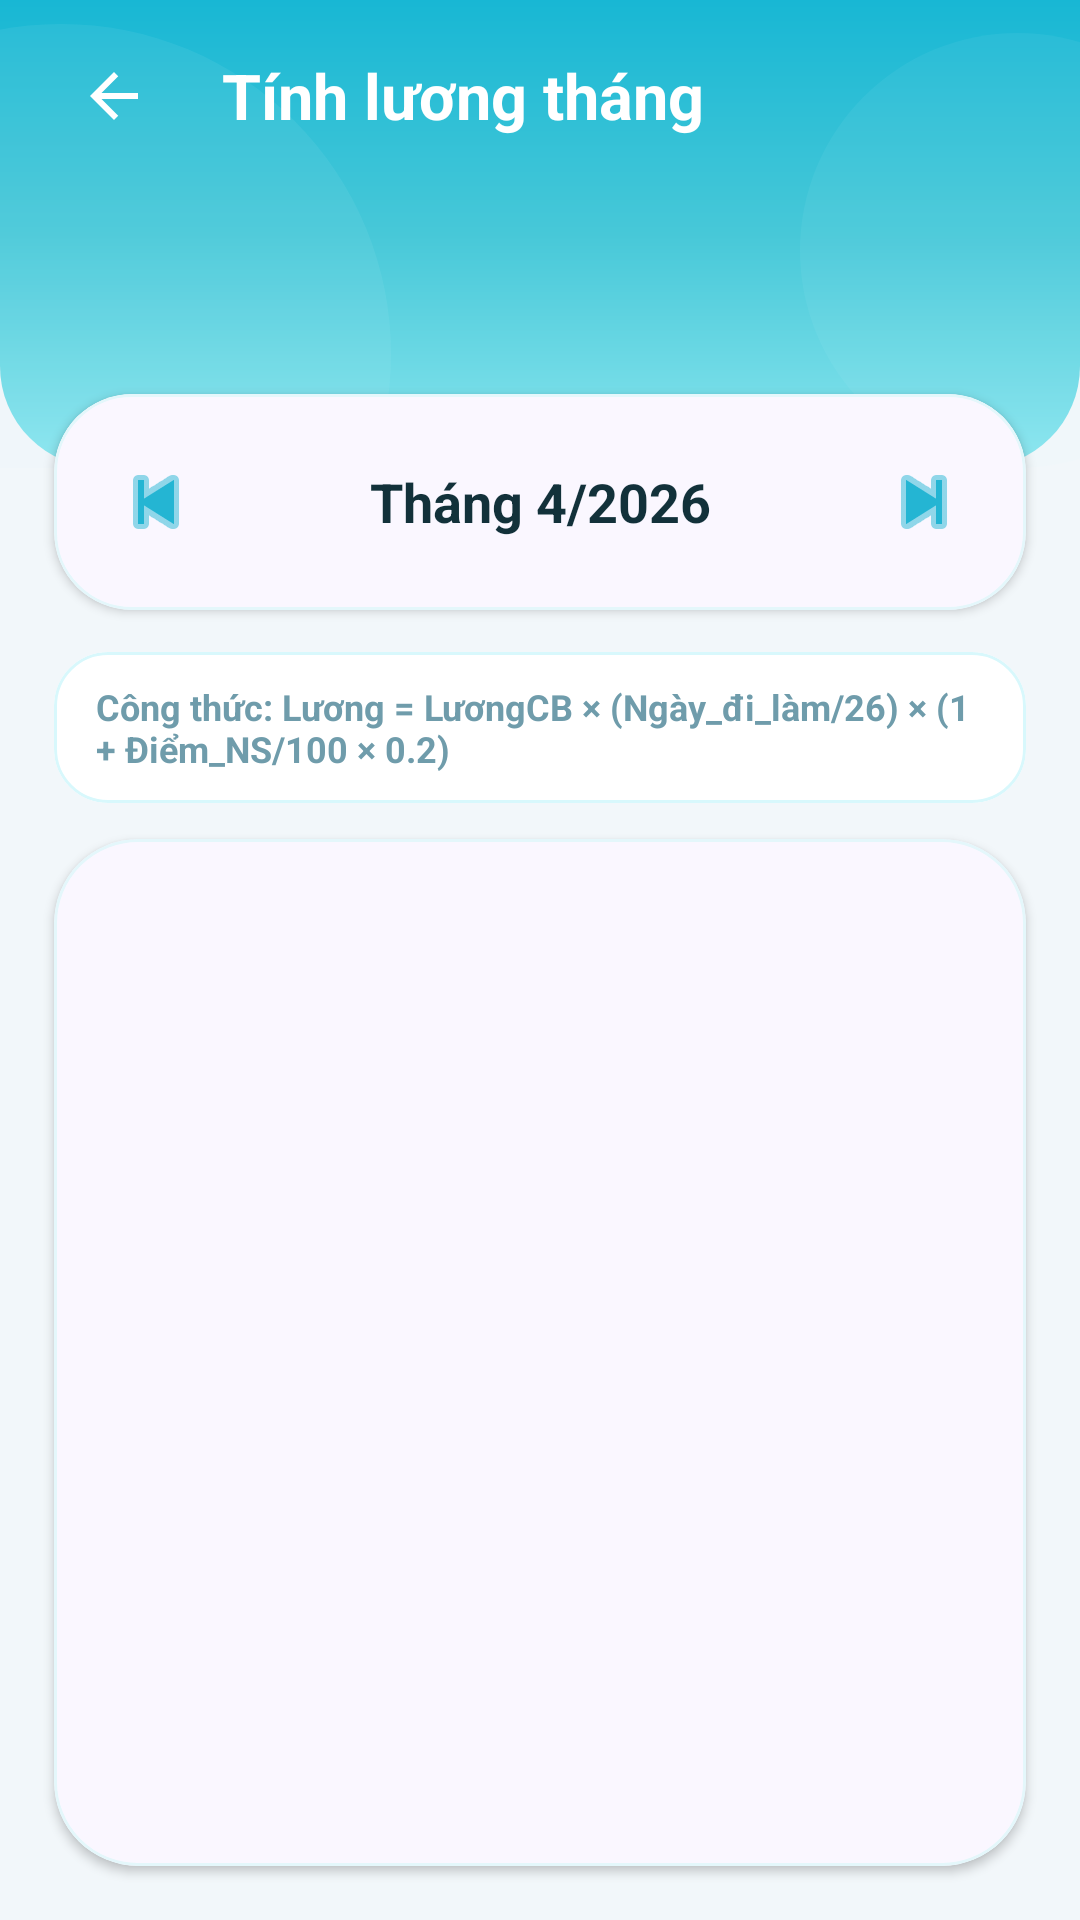

Locate icon controls on the screen. Image size 1080x1920, boxes as bbox=[x1, y1, x2, y2].
next: bbox=[901, 475, 947, 529]
previous: bbox=[133, 475, 179, 529]
